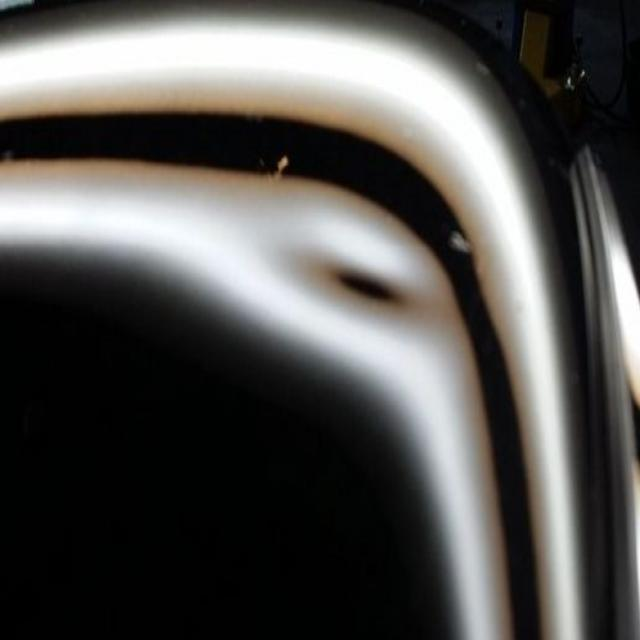dents: (328, 245, 420, 342)
